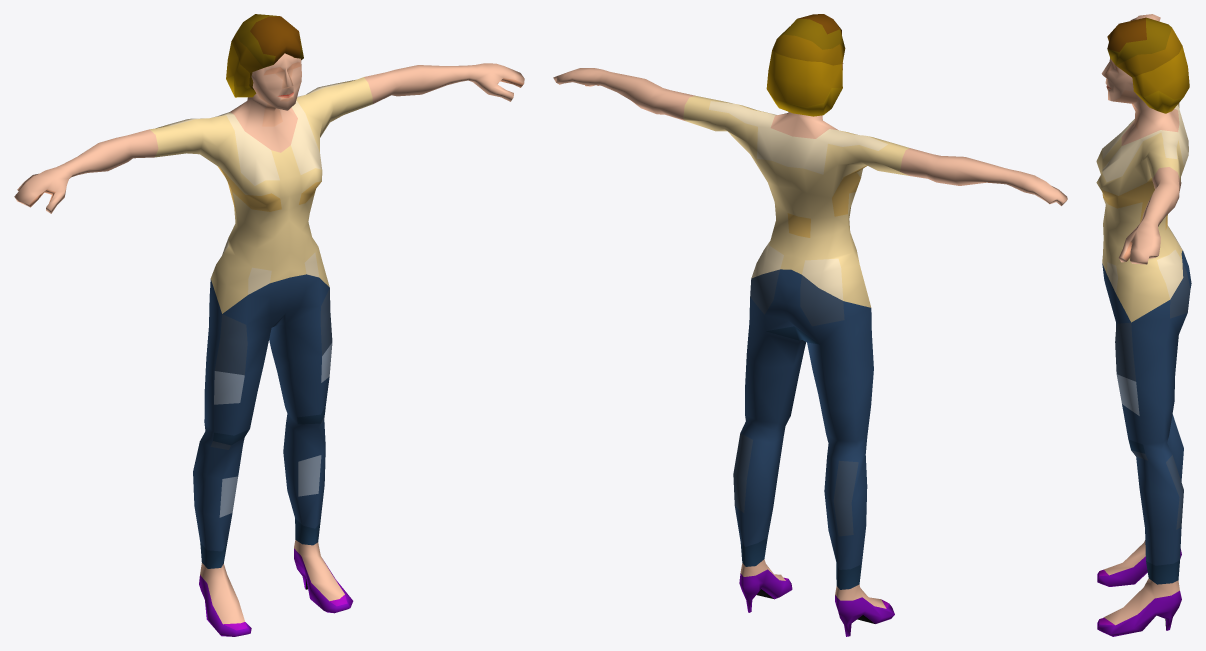
Rendered from casual_Female_G-model.obj.
3 views of the same model, side by side, from view 1: azimuth 30°, elevation 25°; view 2: azimuth 150°, elevation 25°; view 3: azimuth 270°, elevation 25° (orthographic).
Visible parts, largest first — view 1: casual_Female_G; view 2: casual_Female_G; view 3: casual_Female_G.
Part boxes in pixels (<box>): casual_Female_G: <box>14,14,524,636</box>; casual_Female_G: <box>553,14,1067,636</box>; casual_Female_G: <box>1096,14,1191,636</box>.
Size of the model in its own units: 154 by 172 by 25.34.
